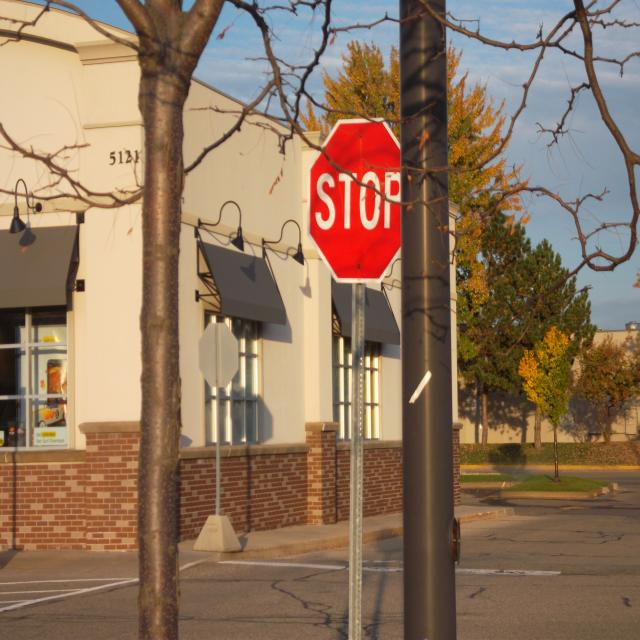stop: (312, 117, 405, 282)
